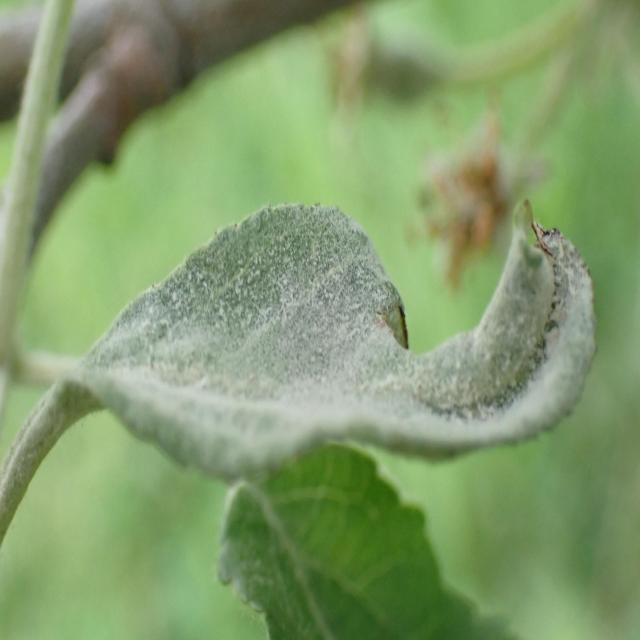Powdery_mildew: (58, 199, 602, 501)
